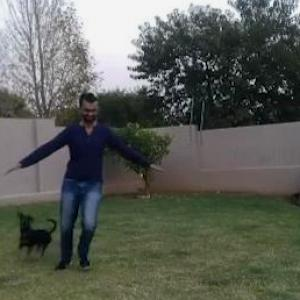land: (9, 91, 174, 273)
